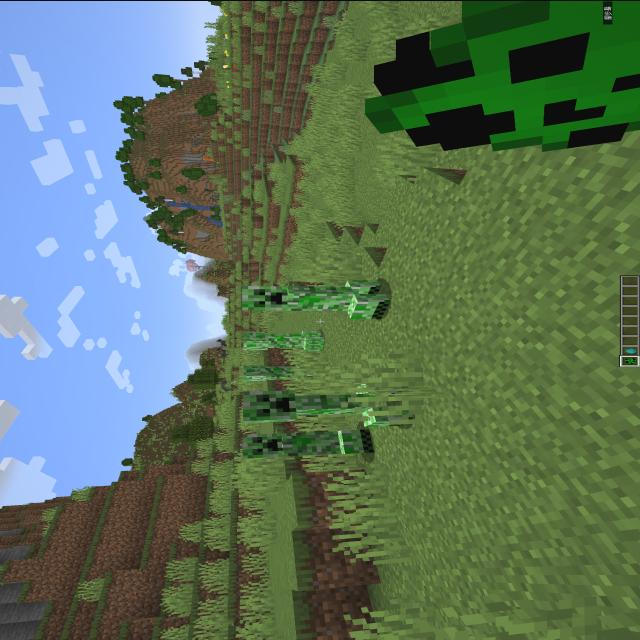Creeper: (223, 374, 424, 434), (224, 277, 393, 319), (231, 425, 376, 463), (235, 326, 336, 352), (232, 361, 322, 381)
